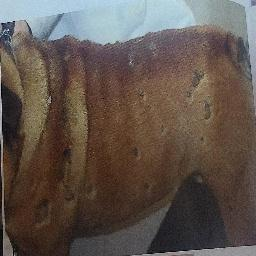pyoderma: (49, 146, 79, 207), (28, 194, 52, 232), (123, 40, 151, 67), (179, 127, 213, 149), (181, 66, 205, 97), (125, 140, 148, 163), (200, 97, 215, 121)
